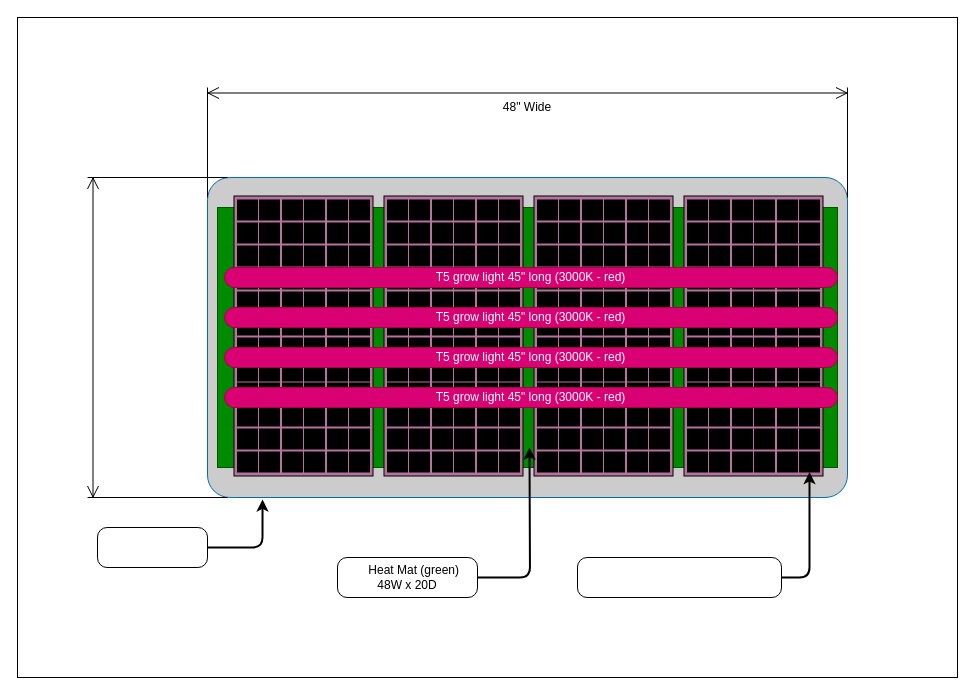
This 975x695 diagram has some shape labels left out. The shapes that lost their labels are listed below. From the top down, each one's centre as x and y in pixels, then its label:
(157,337): 24" Deep
(152,547): Shelf (grey) 48W x 24D
(679,577): 72 Cell Seedling Starter-Trays 11W x 22D
